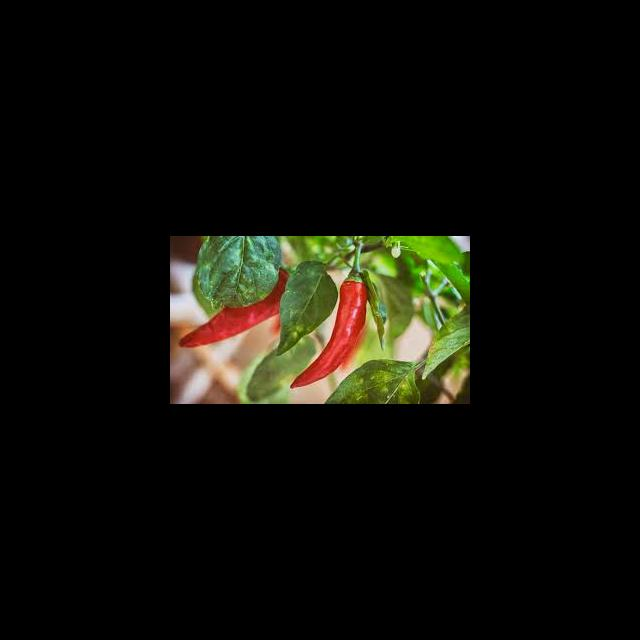chili_pepper: (291, 259, 368, 390), (179, 266, 290, 349)
